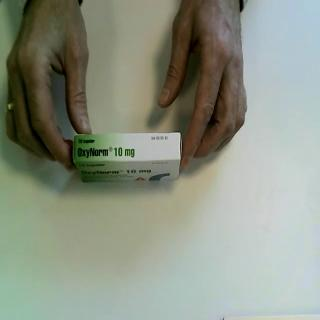oxynorm10mg: (73, 132, 184, 185)
